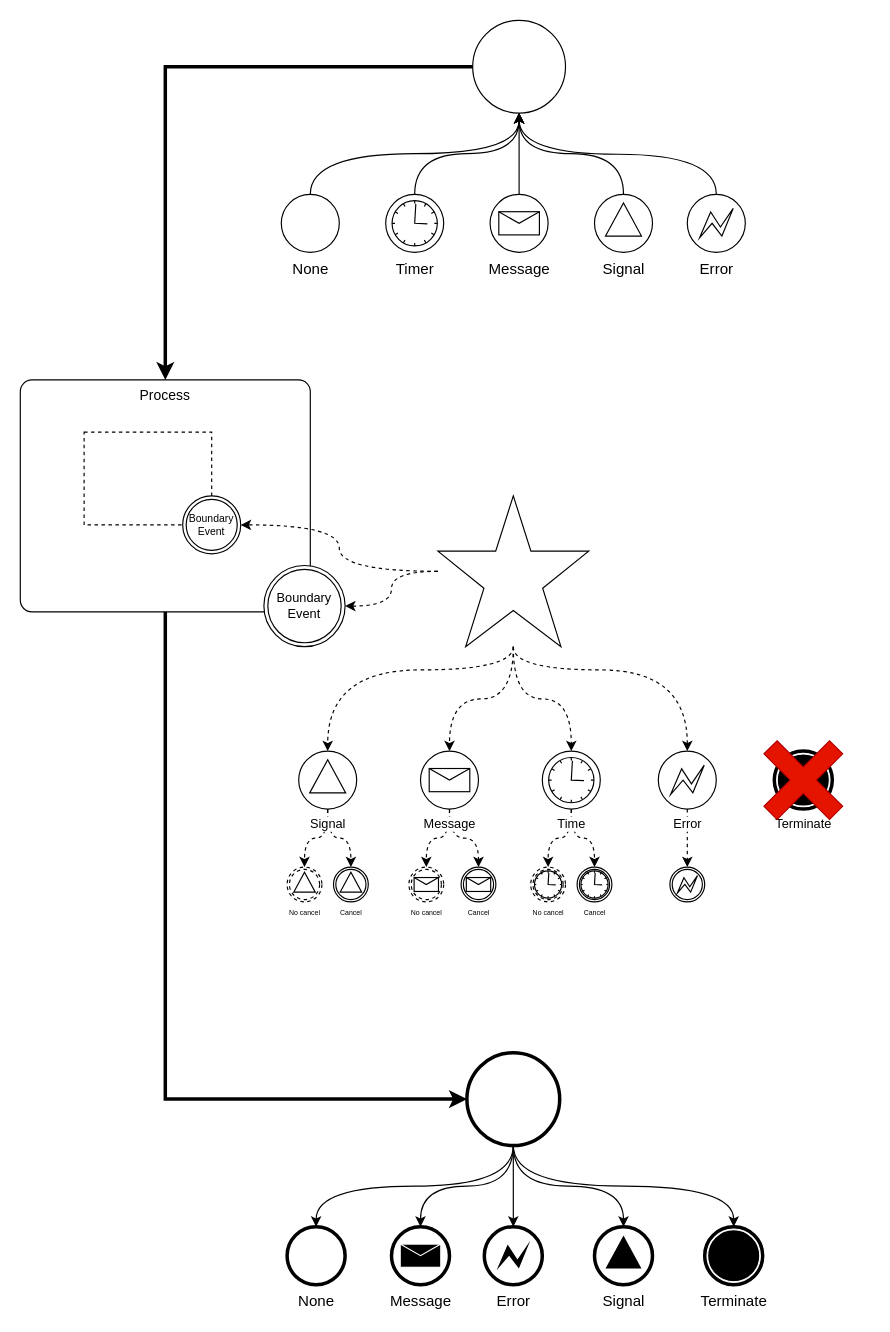
The diagram is 890 pixels wide and 1332 high, and some of its shapes have lost their labels. The box of each missing label's shape, as (x1, y1, x2, y2) in pixels:
Always cancel: (669, 866, 705, 902)
End Event: (466, 1052, 560, 1146)
Ivent Definitions: (437, 495, 589, 647)
Start Event: (472, 19, 566, 113)
Sub Process: (83, 431, 212, 525)
